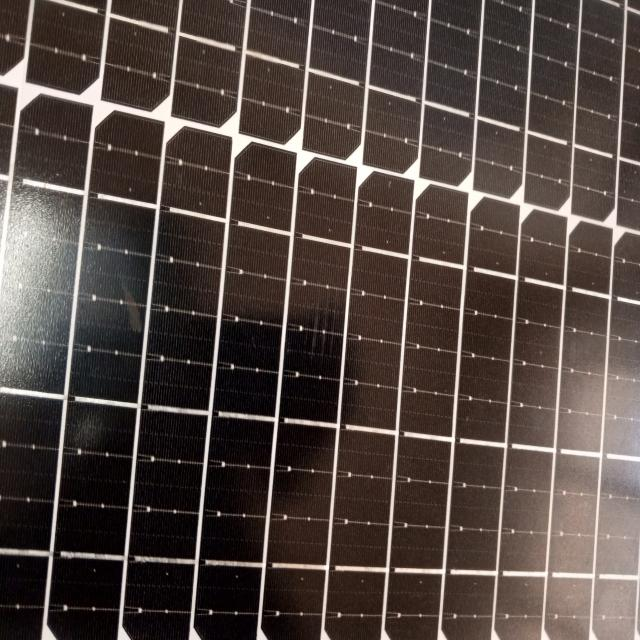Clean: (45, 4, 571, 640)
